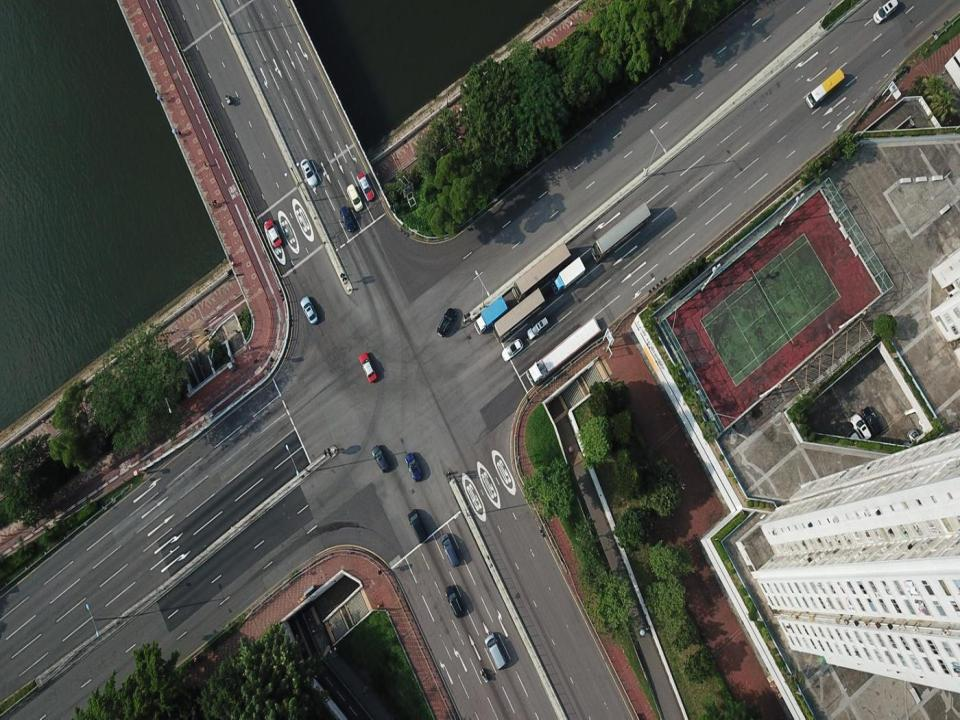bus: (511, 240, 571, 304), (590, 201, 651, 263), (494, 287, 545, 343), (805, 68, 845, 109)
car: (444, 584, 465, 618), (860, 406, 882, 438), (358, 351, 378, 384), (872, 0, 898, 25), (850, 413, 872, 442), (436, 307, 457, 337), (526, 315, 550, 341), (500, 337, 524, 362), (356, 171, 375, 202), (404, 452, 422, 483), (264, 219, 283, 248), (300, 295, 318, 325), (300, 158, 318, 188), (371, 445, 390, 473), (346, 183, 364, 212), (339, 206, 356, 233), (846, 430, 864, 455)
truck: (526, 316, 601, 388), (550, 256, 586, 296), (474, 295, 508, 335)
van: (484, 632, 507, 670), (407, 509, 428, 544), (440, 533, 460, 567)
